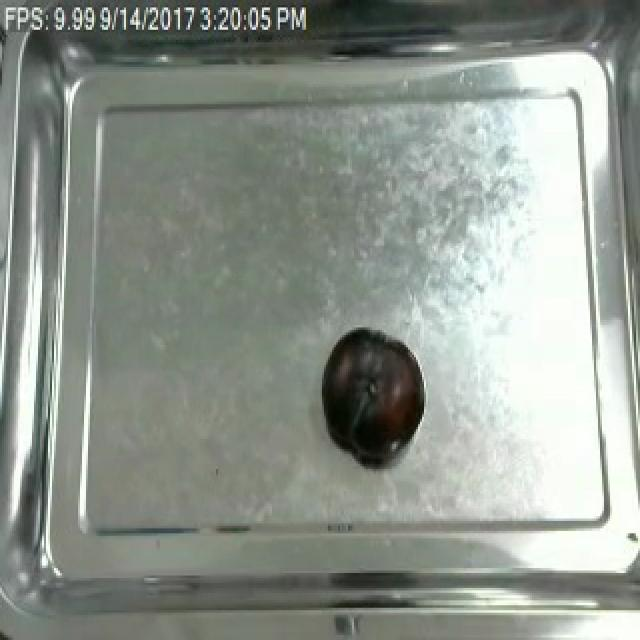Fruit: (318, 325, 424, 461)
